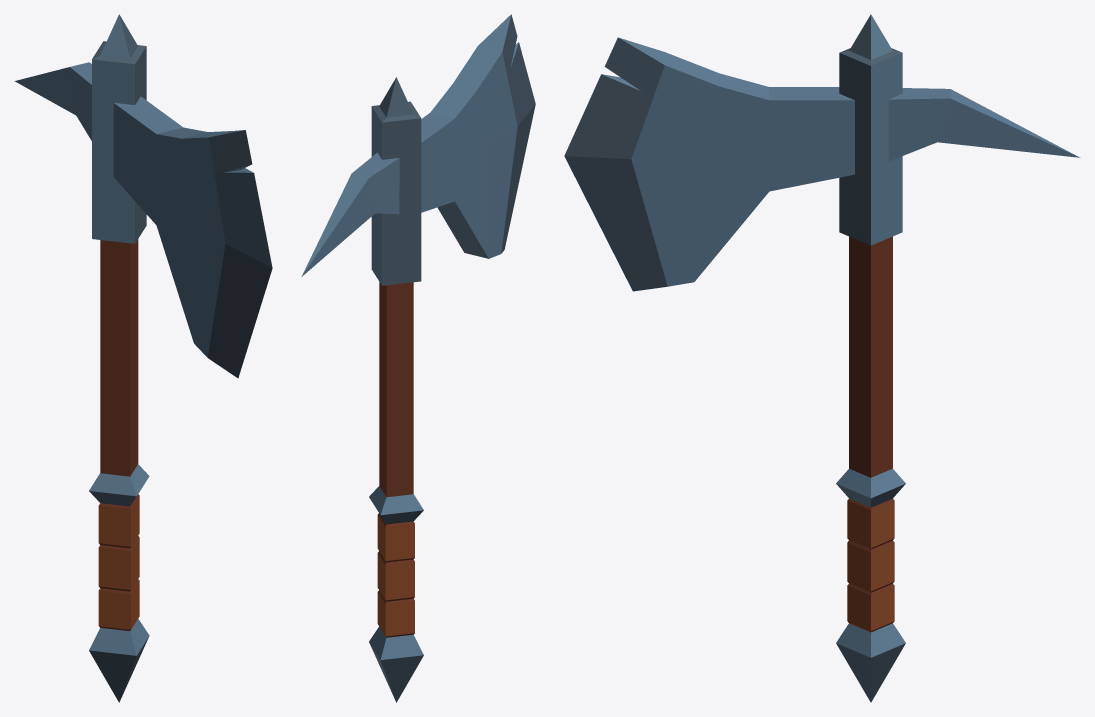
The model's file is SM_BattleAxe_A.fbx.
The picture shows the model from 3 angles, left to right: view 1: azimuth 30°, elevation 25°; view 2: azimuth 150°, elevation 25°; view 3: azimuth 270°, elevation 25°; orthographic projection. The views are drawn at different scales.
Visible parts, largest first — view 1: SM_BattleAxe_A; view 2: SM_BattleAxe_A; view 3: SM_BattleAxe_A.
Part boxes in pixels (x1,y1,x2,y2): SM_BattleAxe_A: (14, 14, 272, 702); SM_BattleAxe_A: (301, 14, 535, 702); SM_BattleAxe_A: (564, 14, 1080, 702).
Size of the model in its own units: 0.16 by 1.73 by 1.18.
